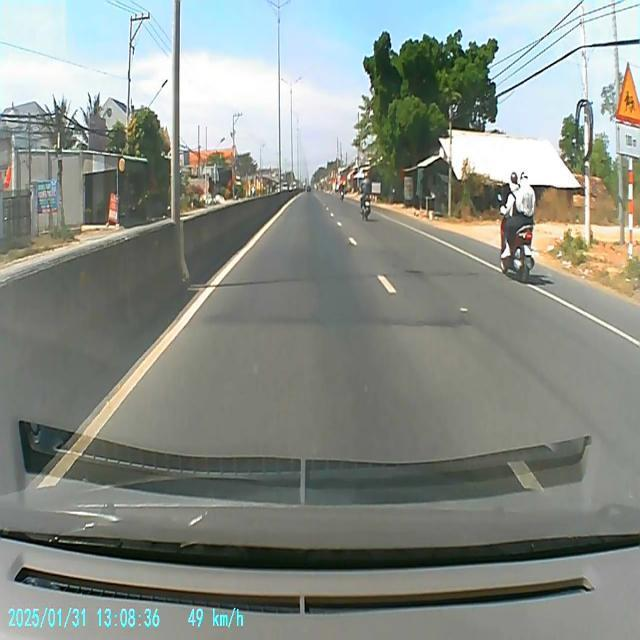225-chu-y-tre-em: (614, 61, 640, 128)
